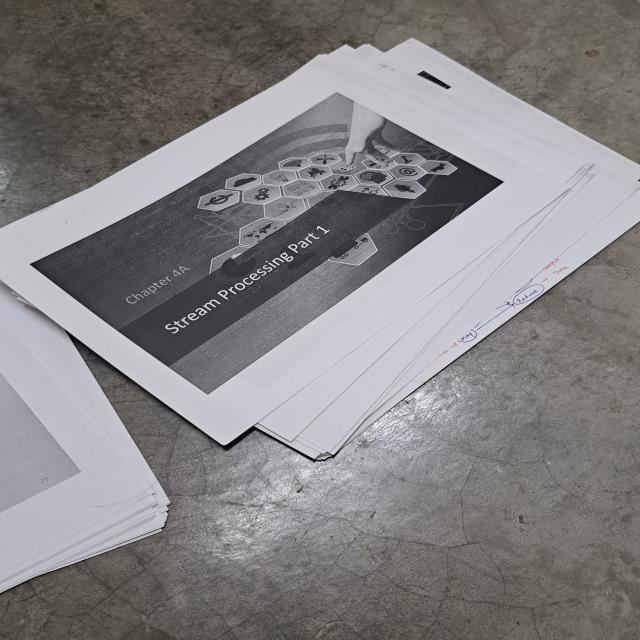paper: (0, 34, 640, 464), (0, 292, 170, 602)
